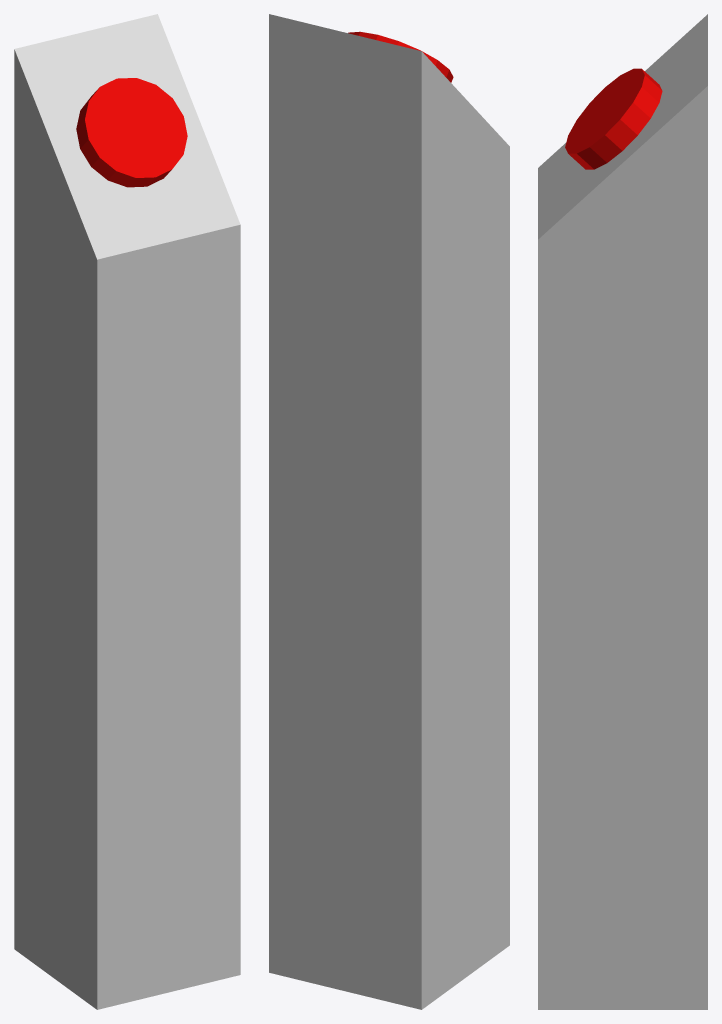
File: ready-button.glb
3 views of the same model, side by side, from view 1: azimuth 30°, elevation 25°; view 2: azimuth 150°, elevation 25°; view 3: azimuth 270°, elevation 25° (orthographic). The views are drawn at different scales.
Visible parts, largest first — view 1: stand, button; view 2: stand, button; view 3: stand, button.
Part boxes in pixels (bbox=[...]): stand: bbox=[14, 14, 240, 1009]; button: bbox=[76, 78, 187, 187]; stand: bbox=[269, 14, 509, 1009]; button: bbox=[348, 31, 453, 82]; stand: bbox=[538, 14, 707, 1009]; button: bbox=[565, 68, 662, 169].
Bounding box in the file's own units: 0.2 × 1.2 × 0.2.
